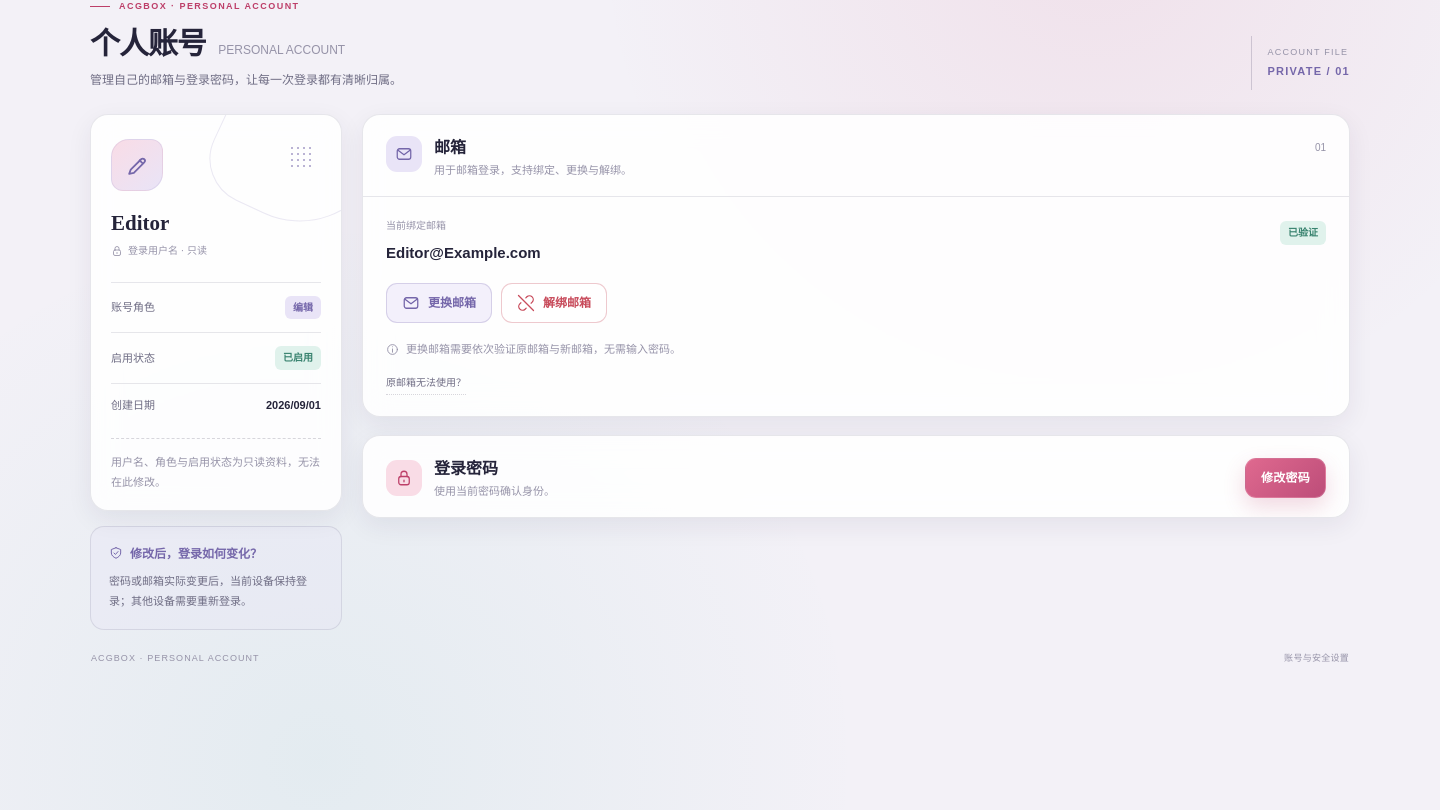
个人账号 › 换绑凭证按截止时间到期回退，后台时间跳跃后也不能提交过期凭证
Click the button "更换邮箱" at (439, 303), box [386,283,492,323]
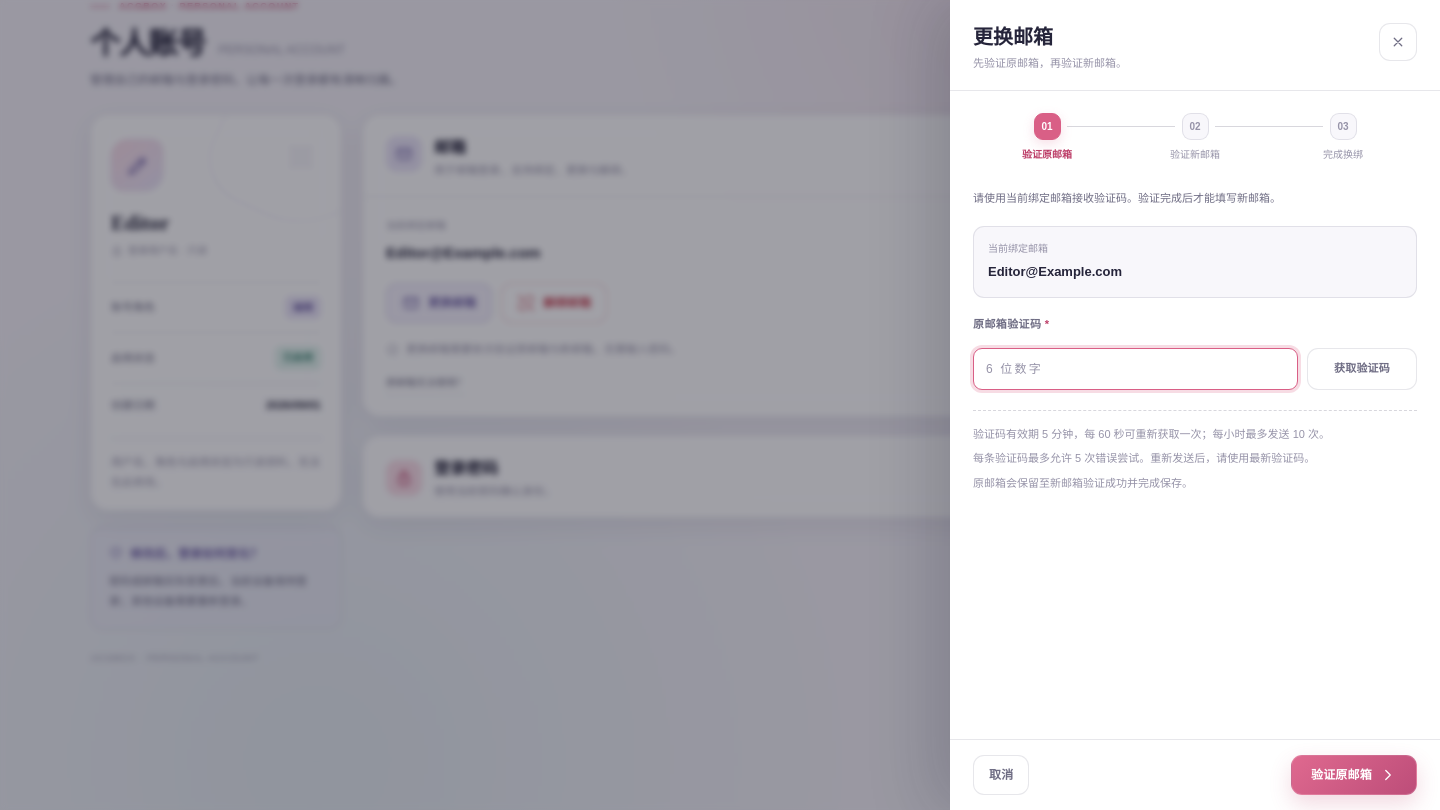
Type "012345" into the field with id "oldCode" at (1136, 368), box [973,348,1298,390]
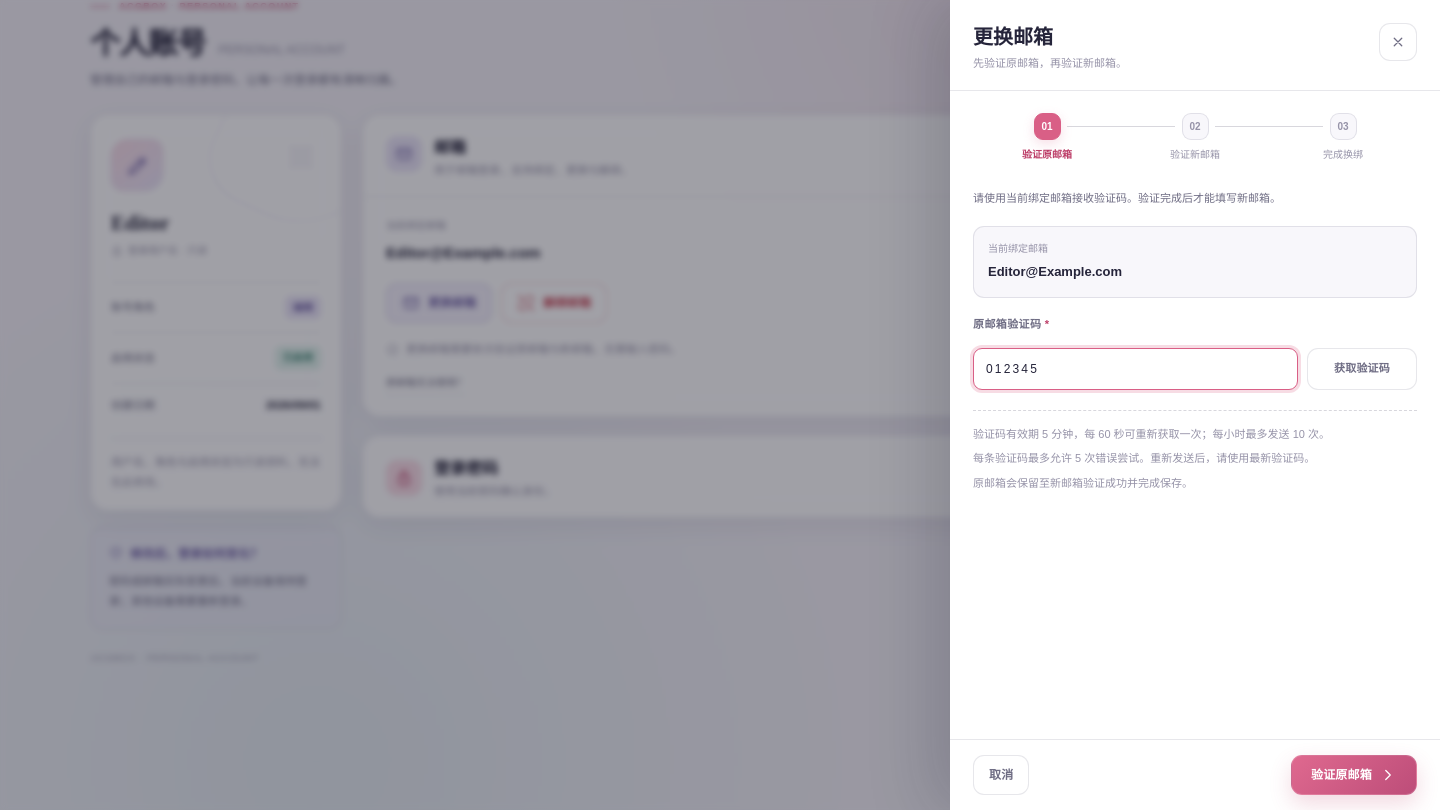
Click the button with id "flowSubmit" at (1354, 775), box [1291,755,1417,795]
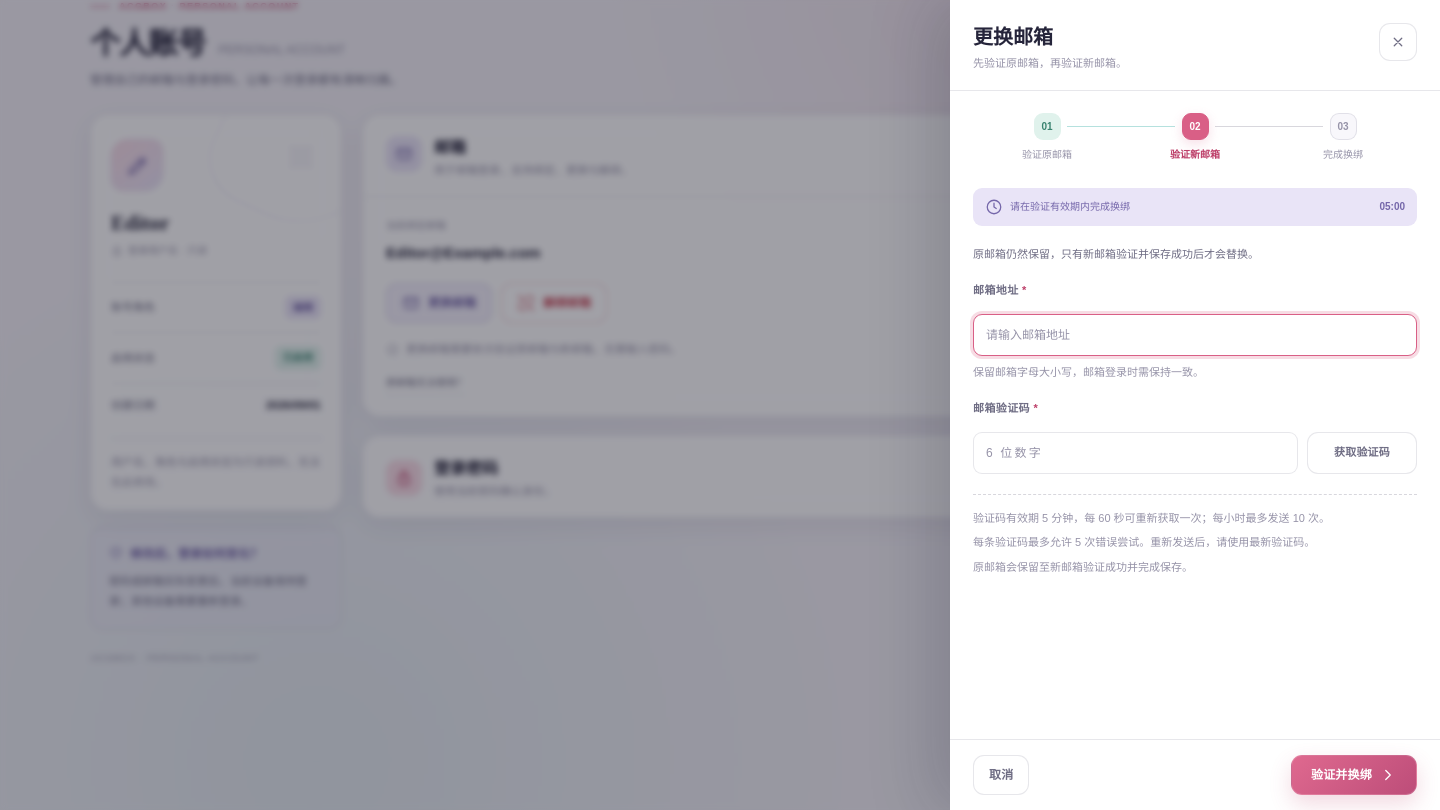
Type "New@Example.com" into the field with id "newEmail" at (1195, 335), box [973,314,1417,356]
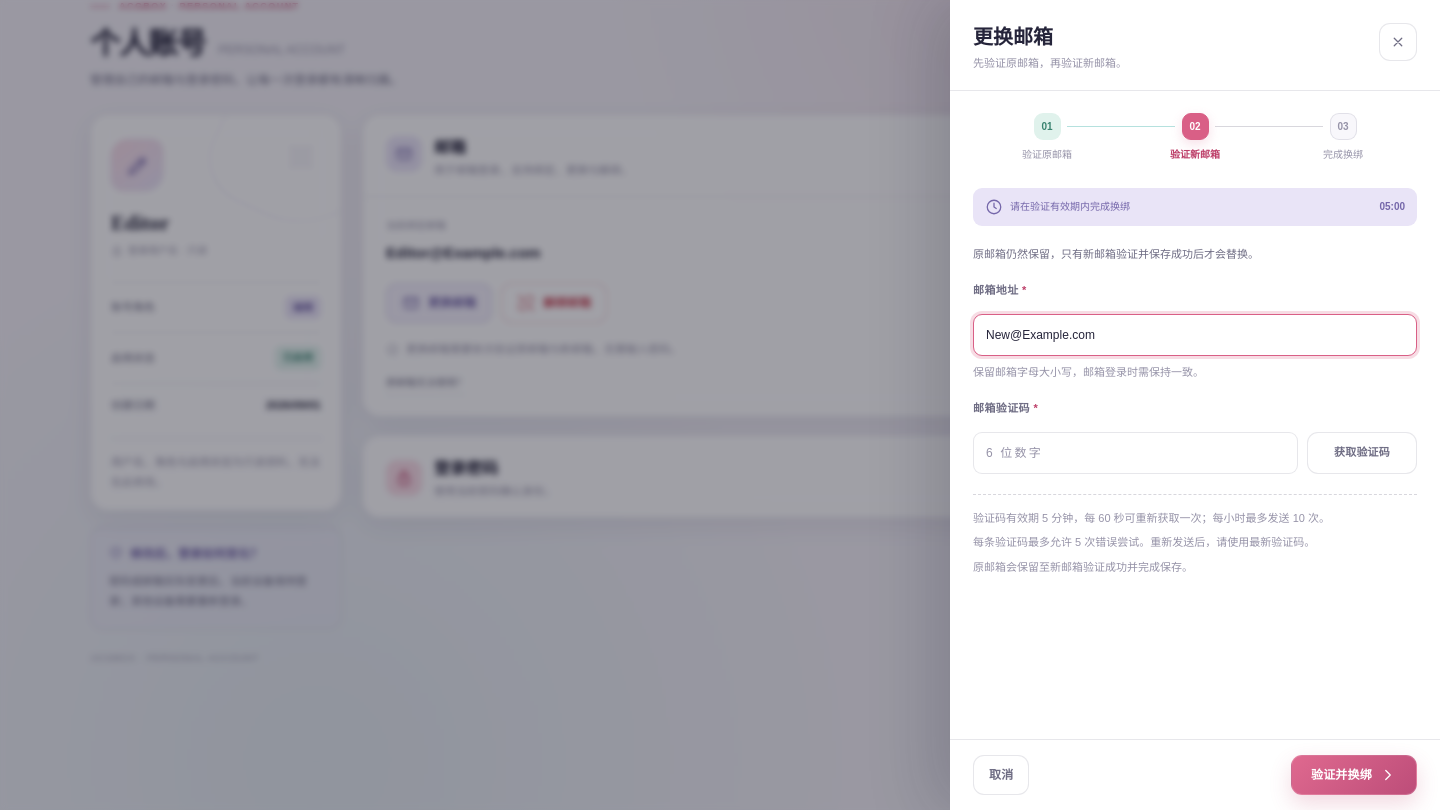
Type "000001" into the field with id "newCode" at (1136, 453), box [973,432,1298,474]
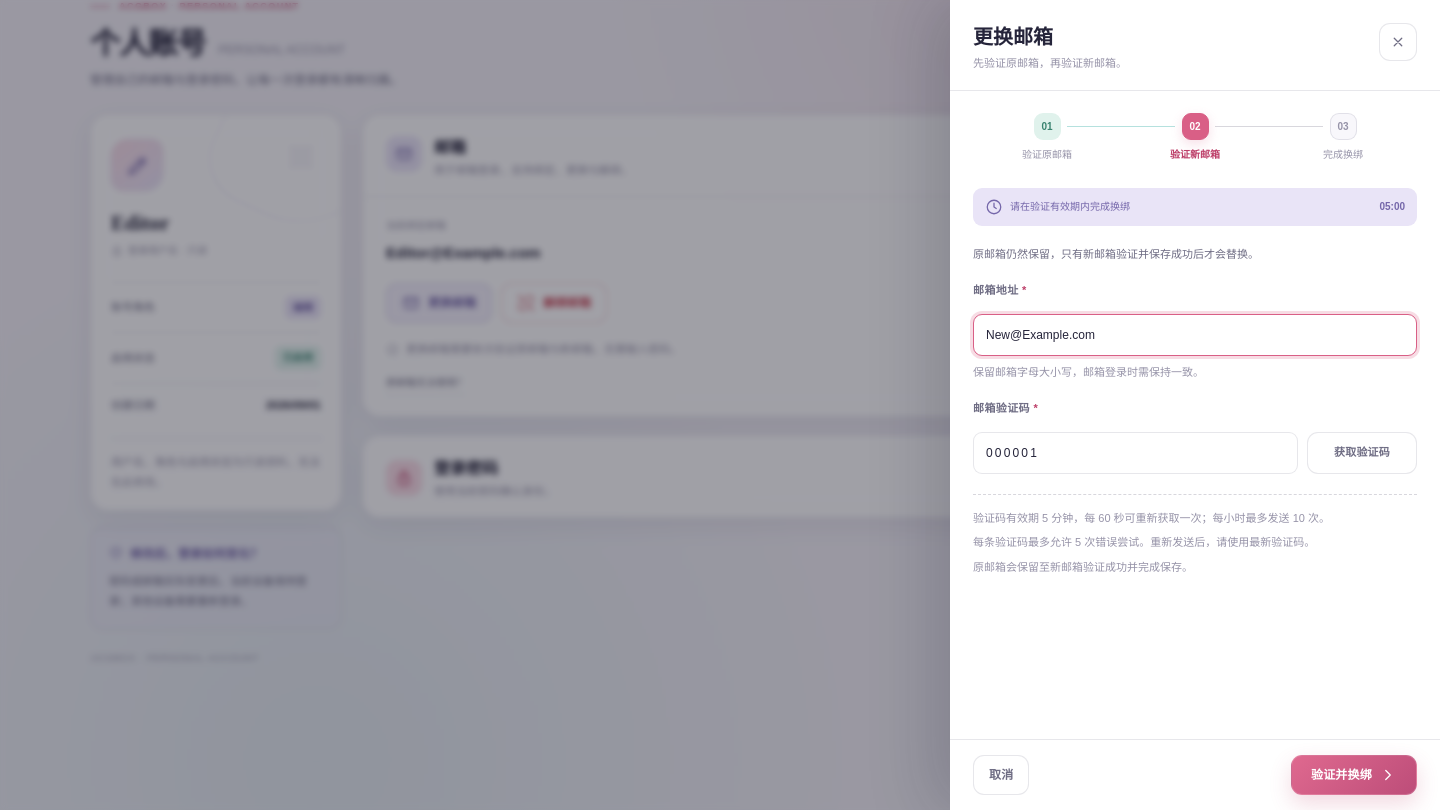
Click the button with id "flowSubmit" at (1354, 775), box [1291,755,1417,795]
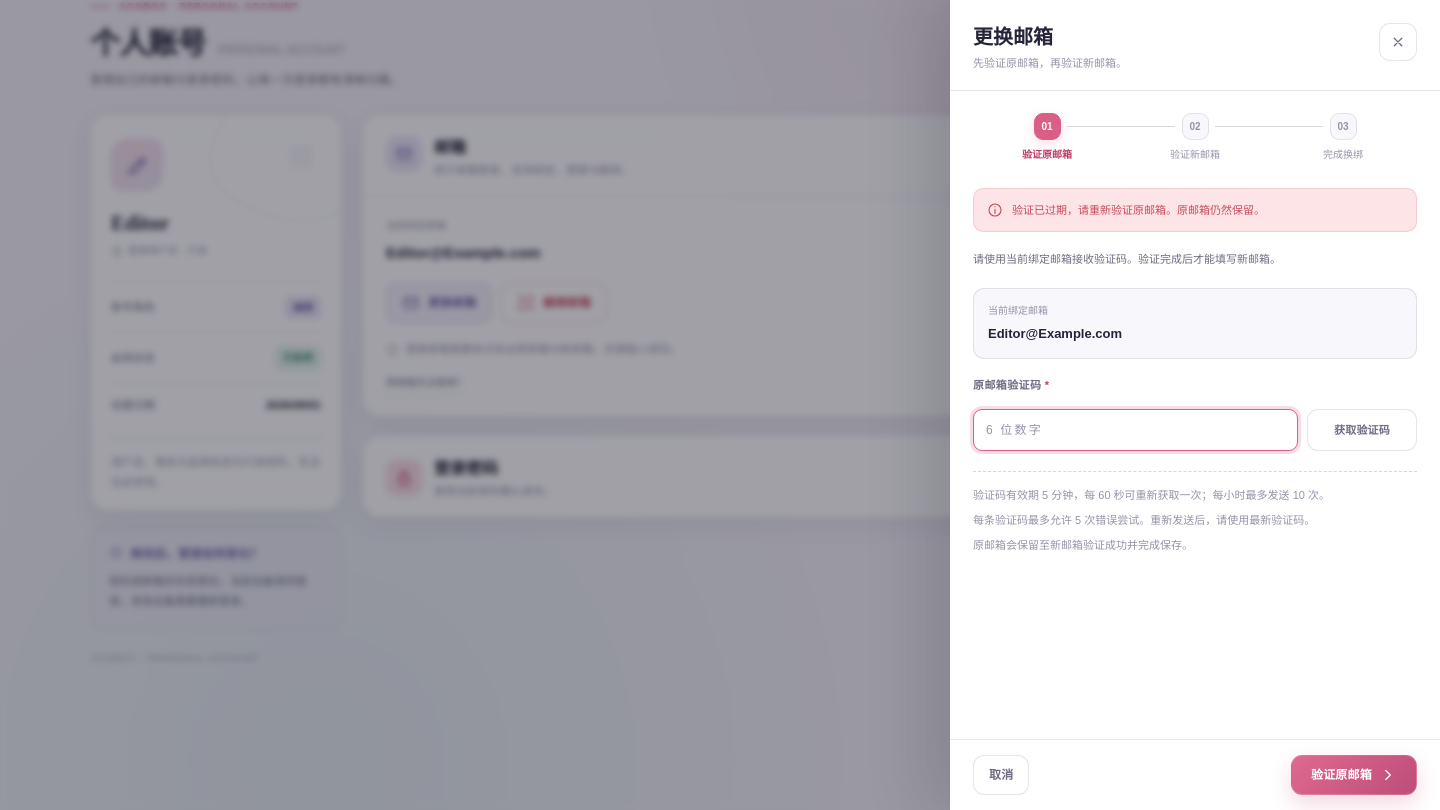
Expected: the text with class "email-address" reads "Editor@Example.com", [386,244,541,261]
Expected: the field with id "oldCode" is shown, [973,409,1298,451]
Expected: the text "验证已过期" is shown, [1012,204,1265,216]
